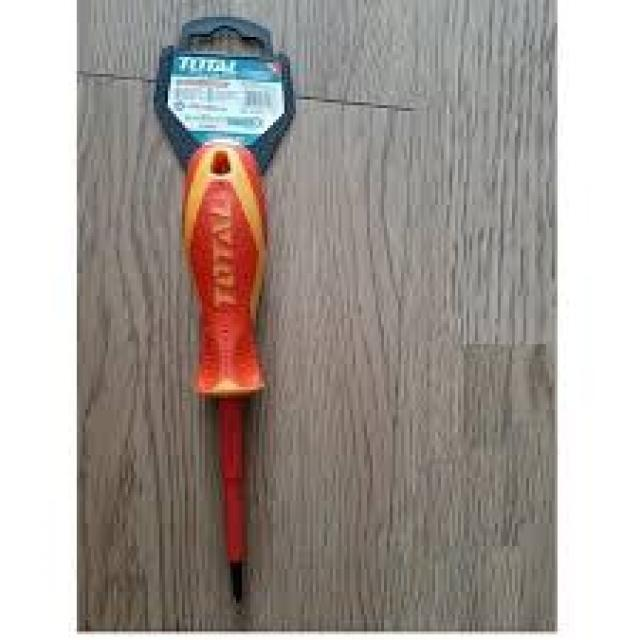screwdriver: (179, 137, 273, 617)
